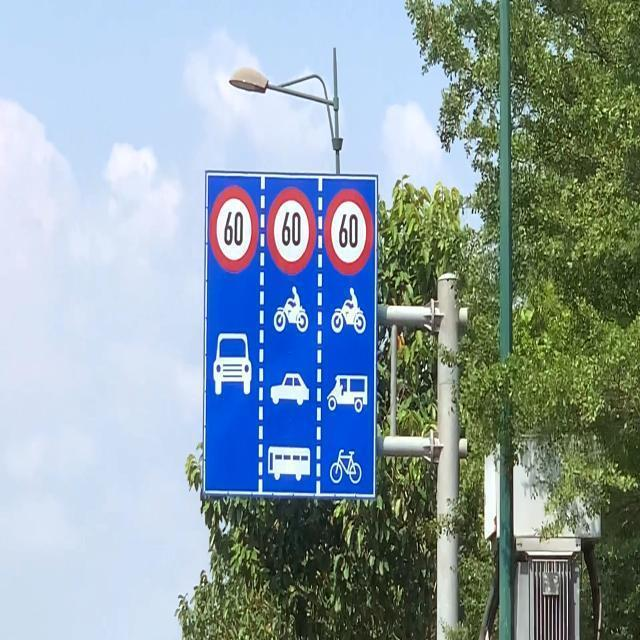127-toc-do-toi-da-60: (207, 190, 261, 269), (327, 190, 372, 274), (270, 190, 312, 269)
